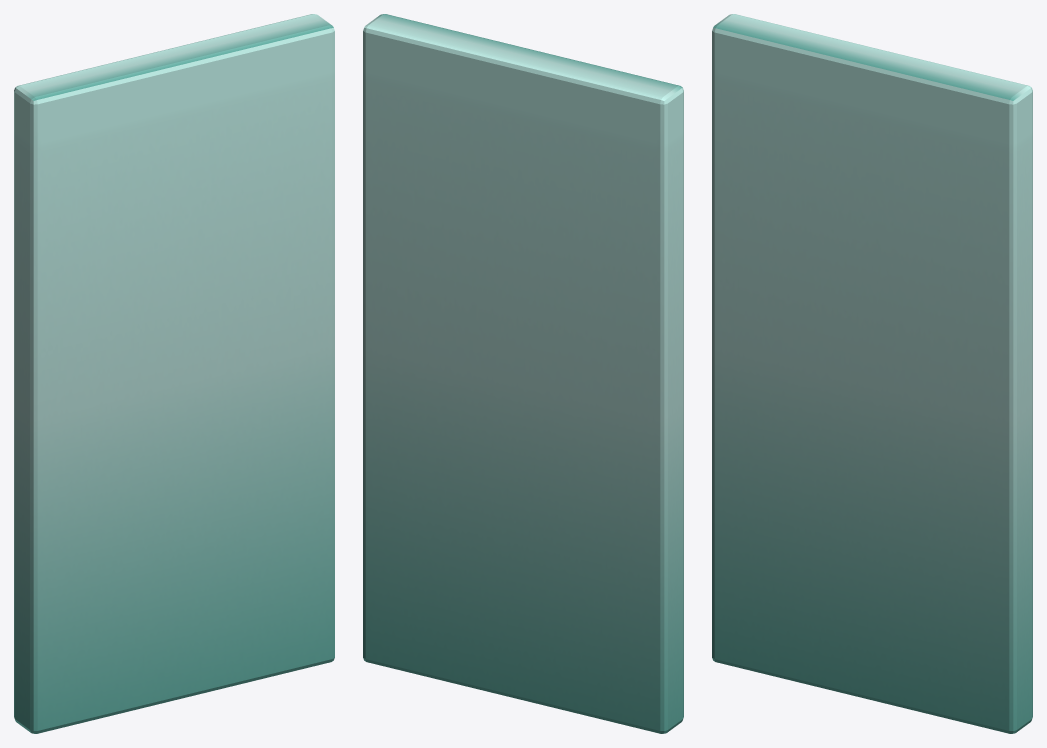
File: Mod_Door_03.fbx
3 views of the same model, side by side, from view 1: azimuth 30°, elevation 25°; view 2: azimuth 150°, elevation 25°; view 3: azimuth 330°, elevation 25° (orthographic).
Visible parts, largest first — view 1: Mod_Door_03; view 2: Mod_Door_03; view 3: Mod_Door_03.
Boxes of the visible parts, x1,y1,x2,y2 form: Mod_Door_03: [14, 14, 334, 733]; Mod_Door_03: [363, 14, 683, 733]; Mod_Door_03: [712, 14, 1032, 733].
Bounding box in the file's own units: 100 × 200 × 12.
